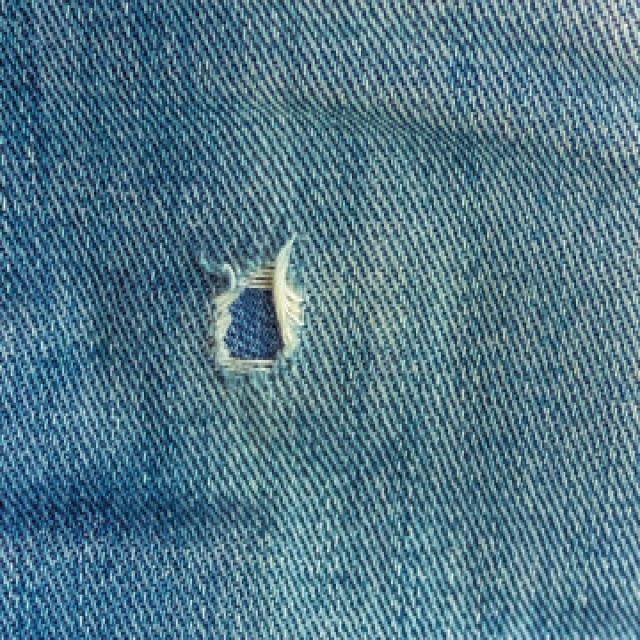Hole: (213, 238, 305, 375)
